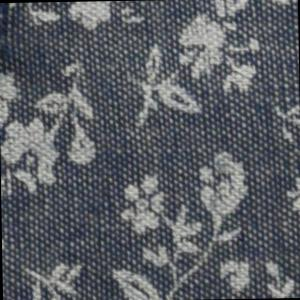Damage: (1, 3, 25, 86)
